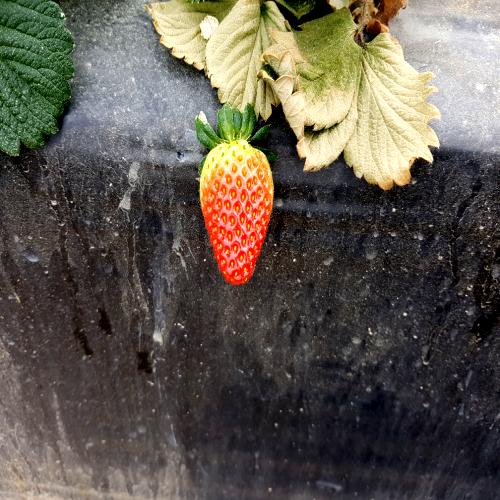partially-ripe: (194, 137, 278, 293)
